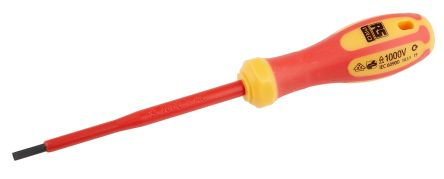screwdriver: (12, 11, 434, 161)
